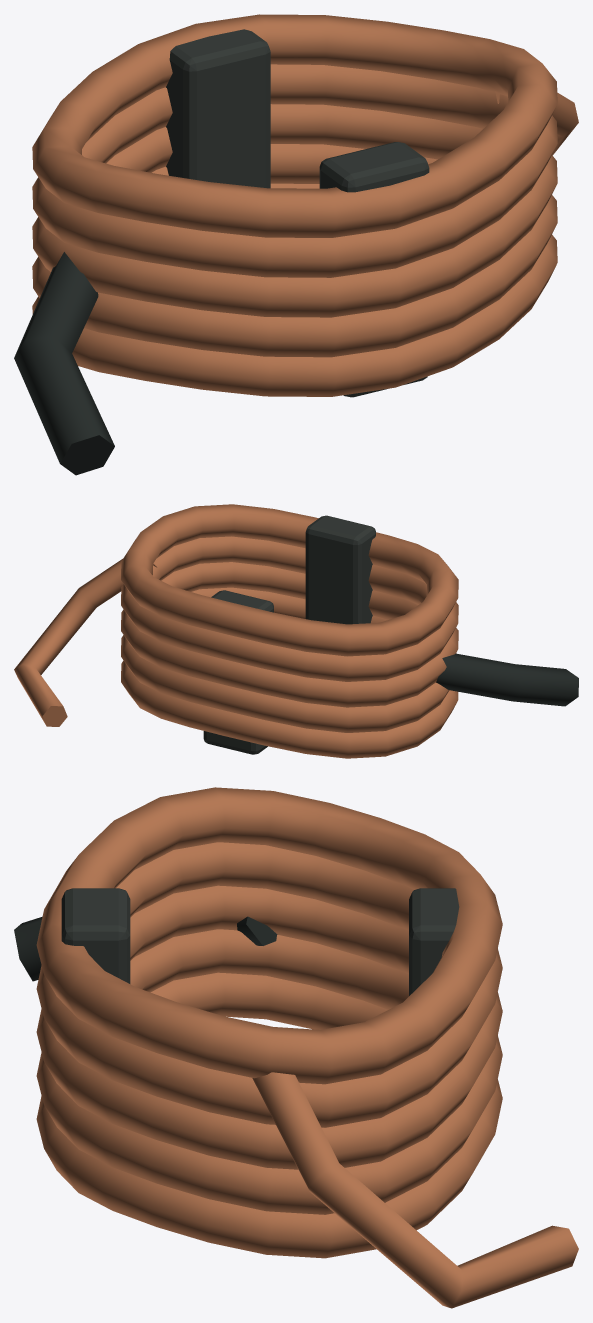
File: copper_wiring_bundle.gltf
The picture shows the model from 3 angles, top to bottom: view 1: azimuth 30°, elevation 25°; view 2: azimuth 150°, elevation 25°; view 3: azimuth 270°, elevation 25°; orthographic projection. The views are drawn at different scales.
Parts seen in each view (by area): view 1: copper_wiring_bundle__copper, copper_wiring_bundle__plastic, copper_wiring_bundle__rubber; view 2: copper_wiring_bundle__copper, copper_wiring_bundle__plastic, copper_wiring_bundle__rubber; view 3: copper_wiring_bundle__copper, copper_wiring_bundle__plastic, copper_wiring_bundle__rubber.
Part boxes in pixels (x1=…): copper_wiring_bundle__copper: x1=32, y1=14, x2=578, y2=396; copper_wiring_bundle__plastic: x1=166, y1=29, x2=429, y2=397; copper_wiring_bundle__rubber: x1=14, y1=252, x2=114, y2=475; copper_wiring_bundle__copper: x1=14, y1=504, x2=458, y2=758; copper_wiring_bundle__plastic: x1=203, y1=515, x2=375, y2=754; copper_wiring_bundle__rubber: x1=436, y1=653, x2=578, y2=706; copper_wiring_bundle__copper: x1=36, y1=787, x2=578, y2=1308; copper_wiring_bundle__plastic: x1=61, y1=888, x2=459, y2=995; copper_wiring_bundle__rubber: x1=14, y1=916, x2=277, y2=981.
Bounding box in the file's own units: 1.89 × 0.5998 × 1.24.
